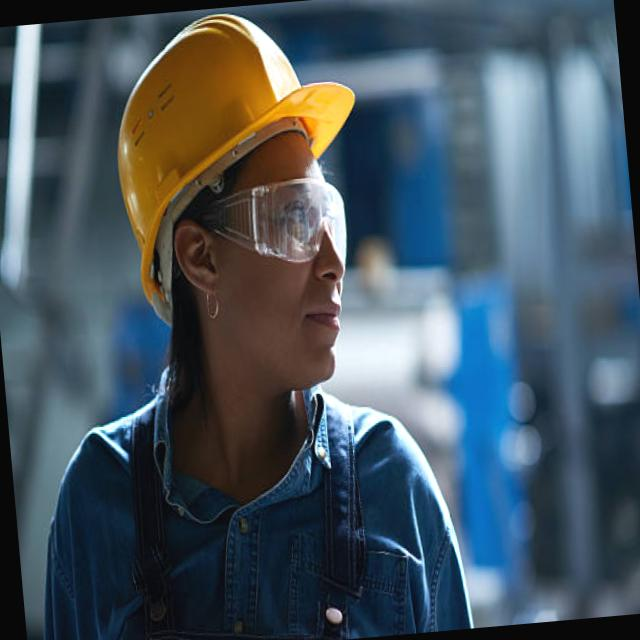goggles: (184, 168, 362, 285)
helmet: (89, 0, 373, 322)
no-vest: (37, 375, 478, 640)
